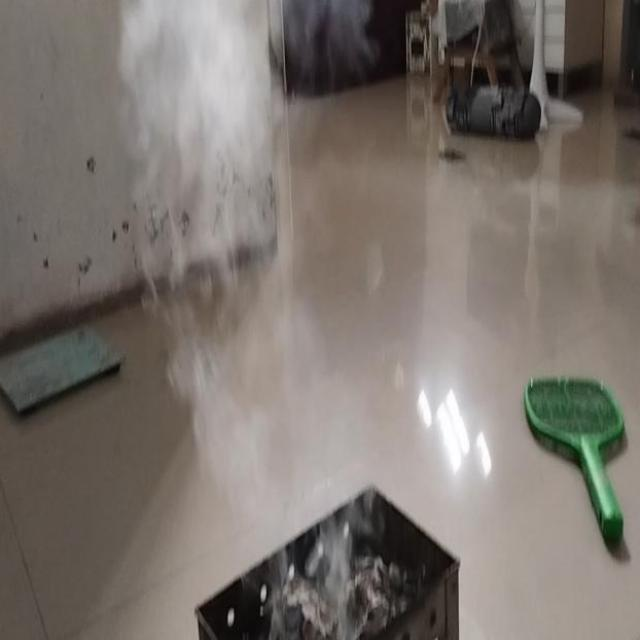fire: (163, 284, 364, 562), (126, 6, 307, 275)
